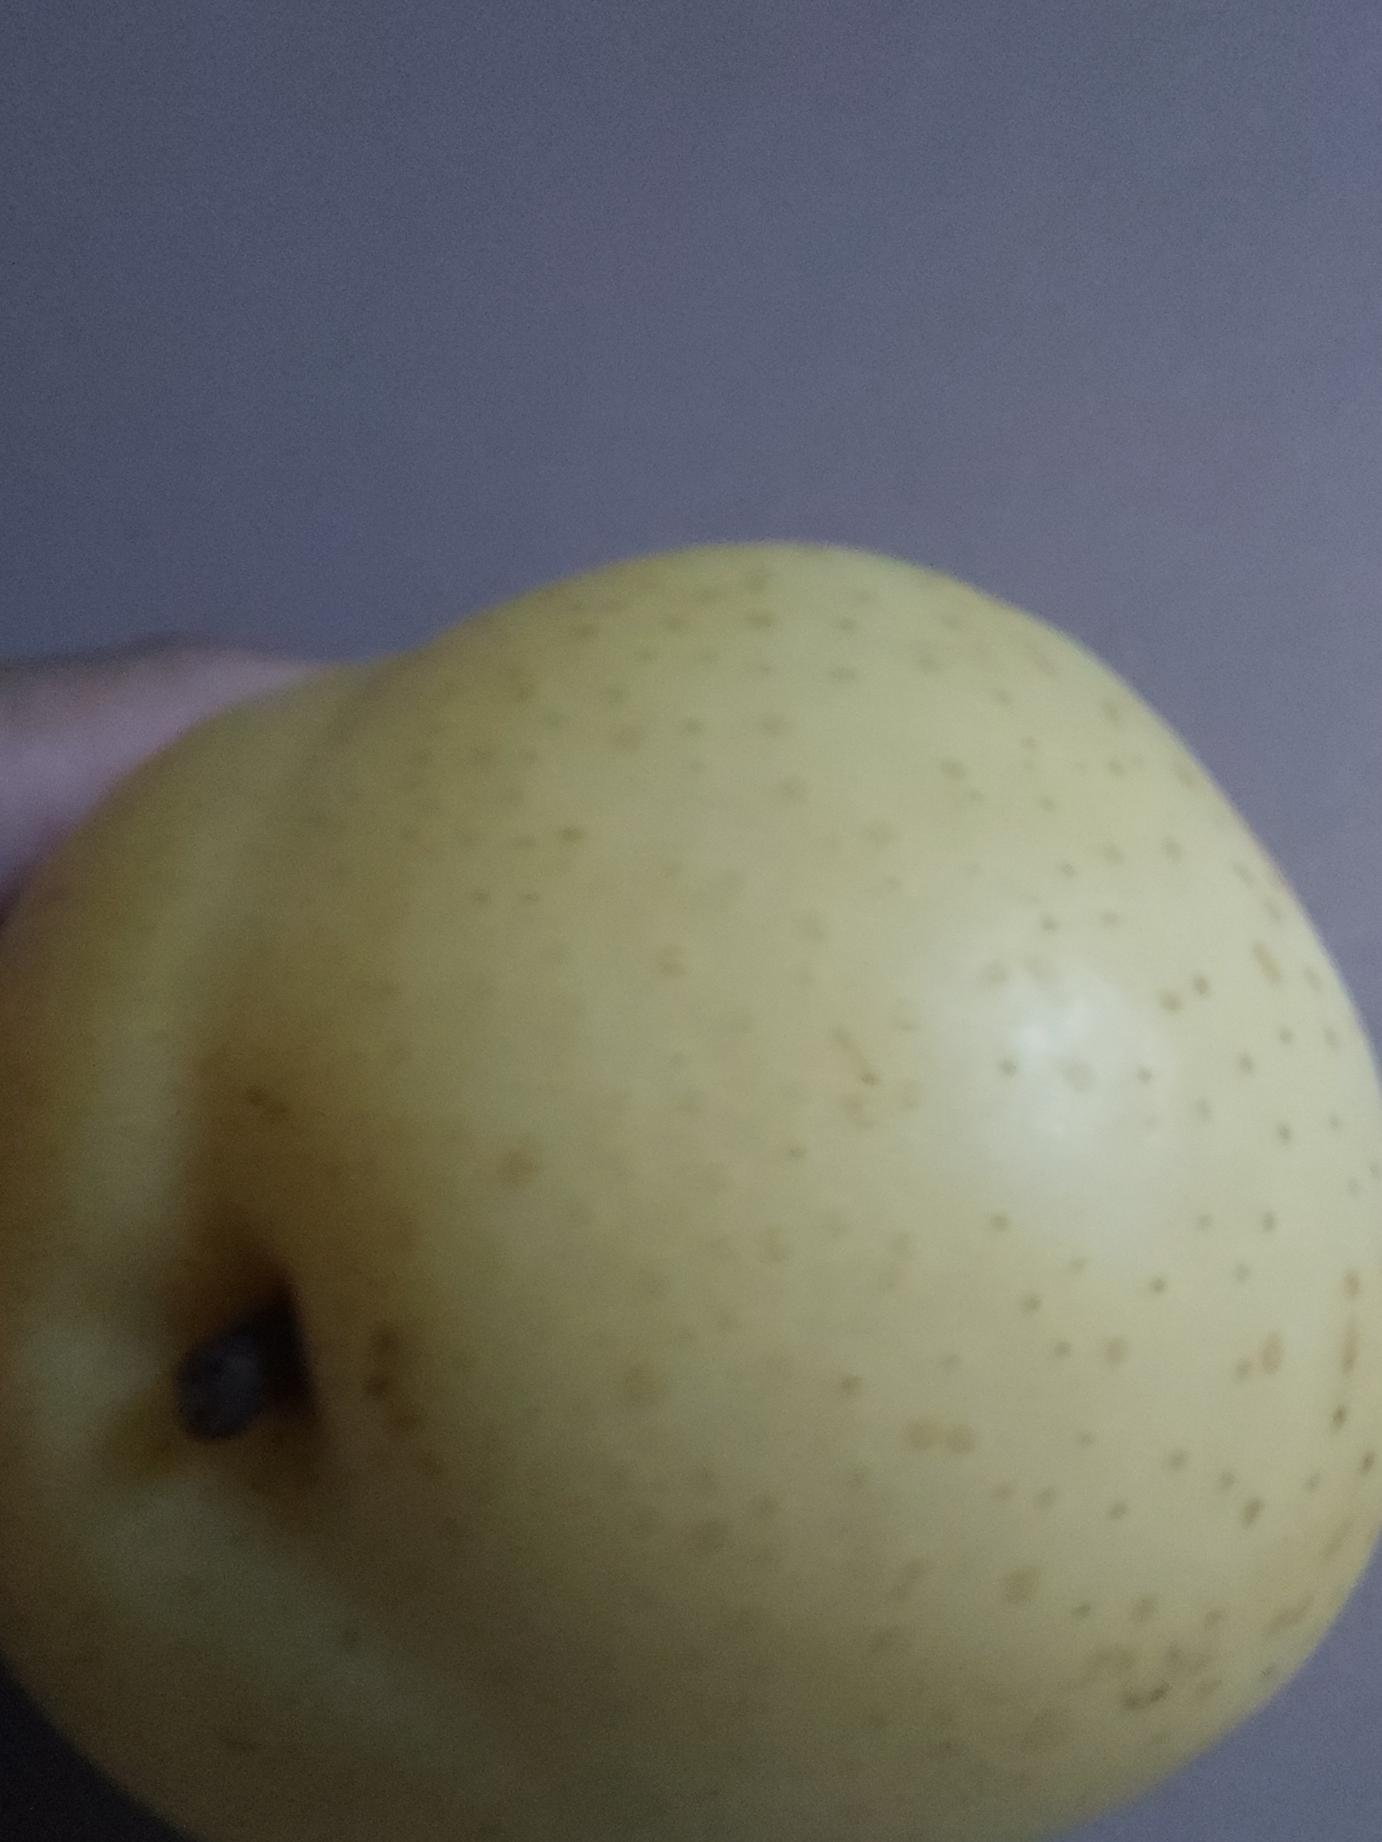Good Pear: (0, 543, 1382, 1842)
